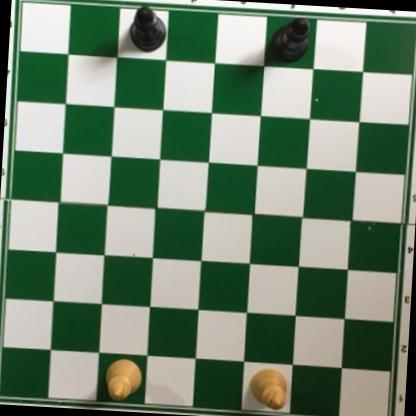black-bishop: (269, 15, 312, 65), (128, 4, 169, 55)
white-bishop: (103, 356, 144, 404), (246, 366, 287, 413)
